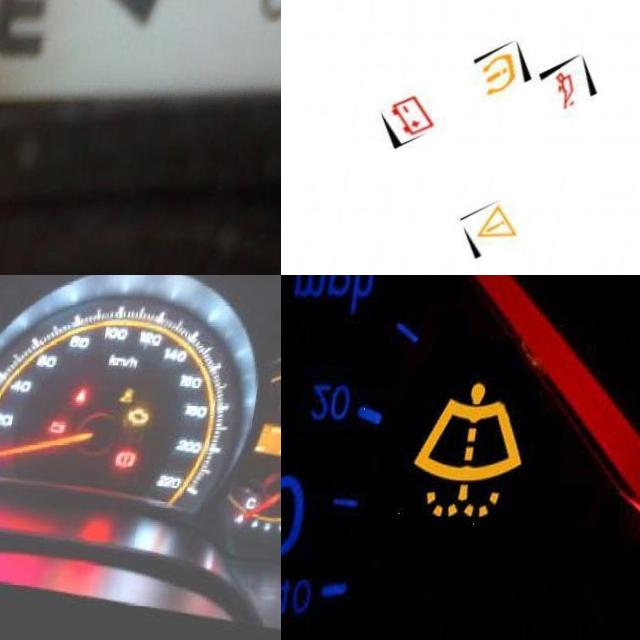Seat Belt: (87, 389, 103, 404)
Washer Fluid: (415, 384, 541, 520)
